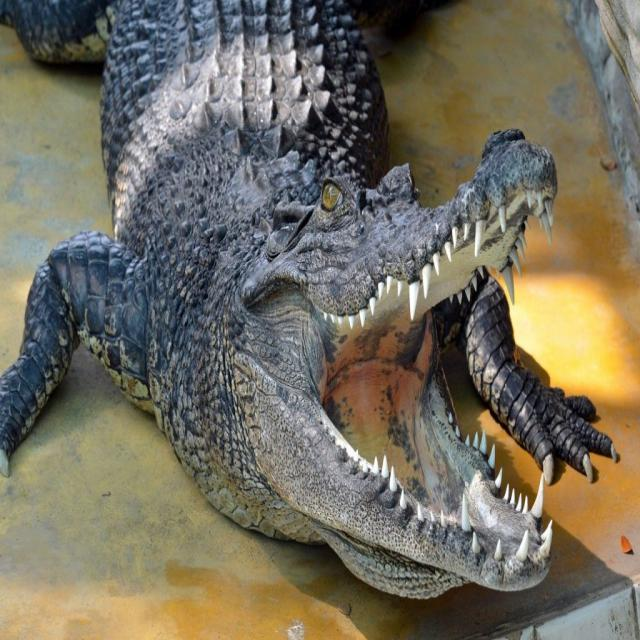not_pig: (0, 0, 618, 602)
